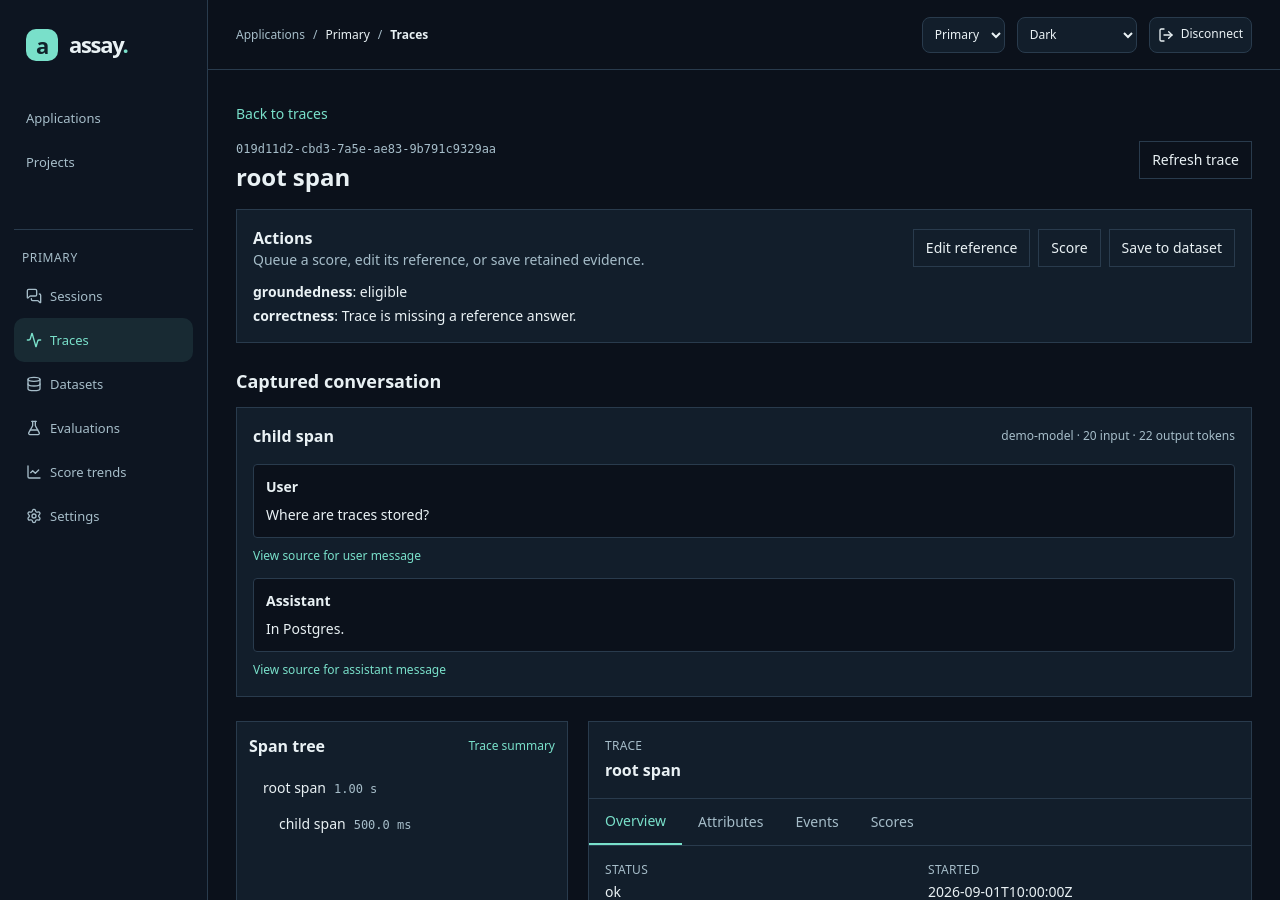
Test case: captured conversation leads trace detail and stays visible while inspecting scores
Click the tab "Scores": (892,822) [855, 799, 930, 845]
(page scrolled)
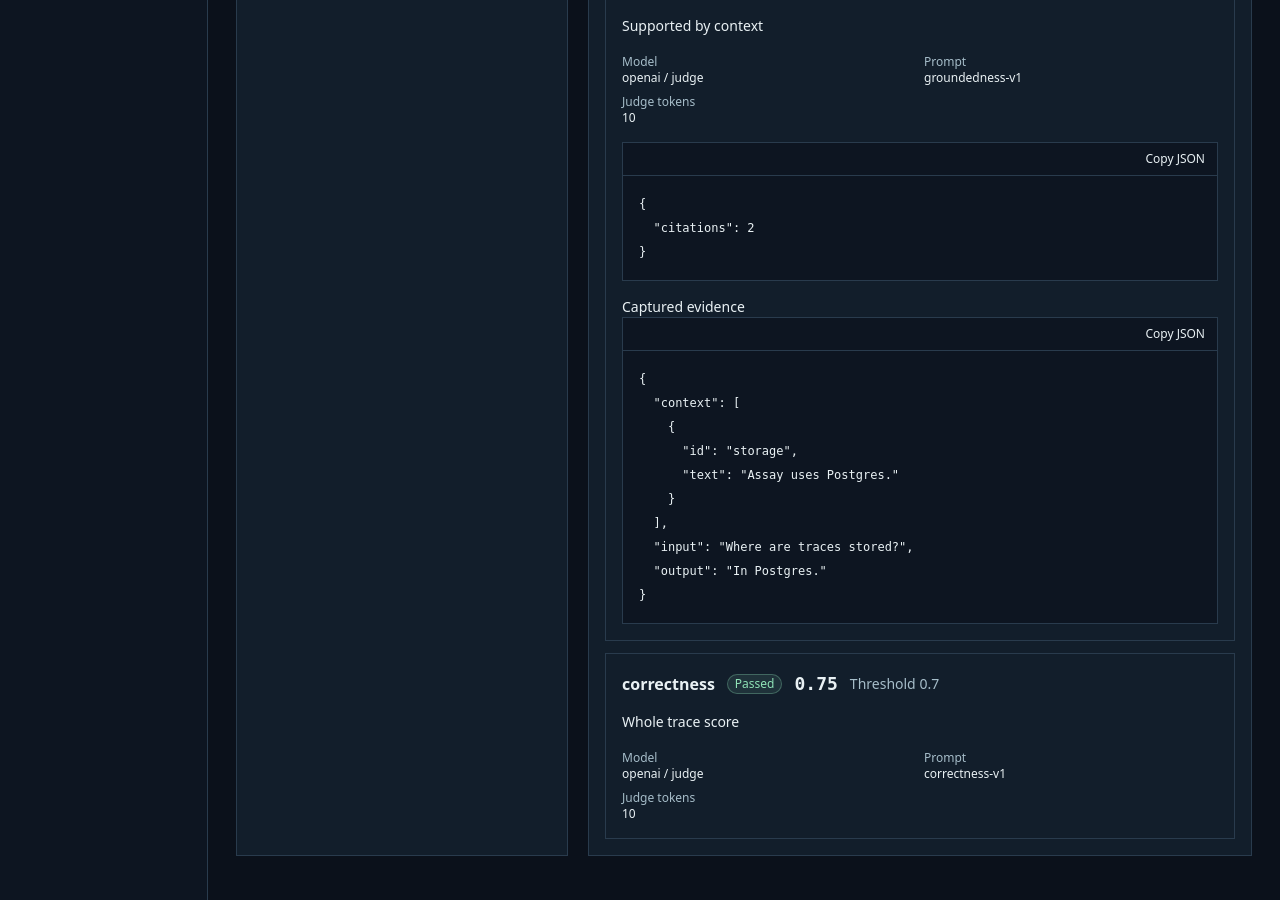
Now the text "Whole trace score" is shown, box [622, 712, 739, 731]
